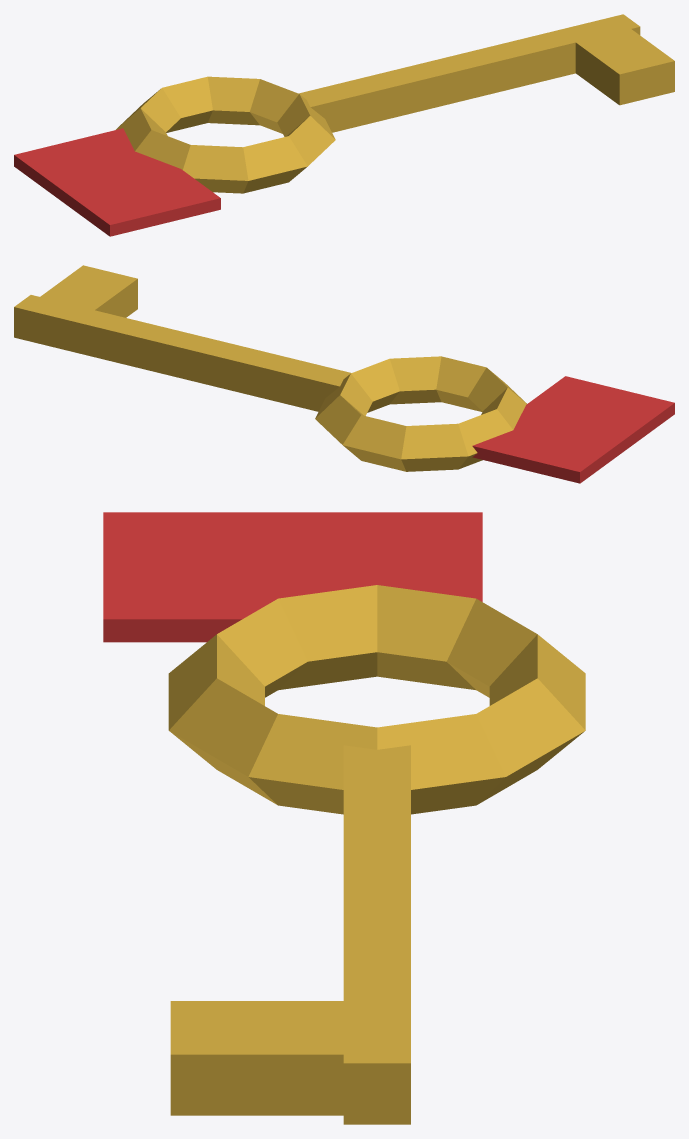
File: safe_key.glb
The picture shows the model from 3 angles, top to bottom: view 1: azimuth 30°, elevation 25°; view 2: azimuth 150°, elevation 25°; view 3: azimuth 270°, elevation 25°; orthographic projection. The views are drawn at different scales.
Visible parts, largest first — view 1: bow_brass, shaft_brass, tag_tag_red, bit_brass; view 2: bow_brass, shaft_brass, tag_tag_red, bit_brass; view 3: bow_brass, tag_tag_red, shaft_brass, bit_brass.
Part boxes in pixels (box(x1,y1,x2,y2)): bow_brass: box(116, 76, 335, 193); shaft_brass: box(299, 14, 640, 132); tag_tag_red: box(14, 128, 220, 236); bit_brass: box(567, 22, 674, 105); bow_brass: box(315, 356, 526, 471); shaft_brass: box(14, 295, 351, 411); tag_tag_red: box(472, 376, 674, 483); bit_brass: box(31, 265, 137, 317); bow_brass: box(168, 585, 585, 814); tag_tag_red: box(103, 512, 482, 642); shaft_brass: box(343, 745, 410, 1124); bit_brass: box(170, 1001, 381, 1115).
Bounding box in the file's own units: 0.16 × 0.012 × 0.0572.
